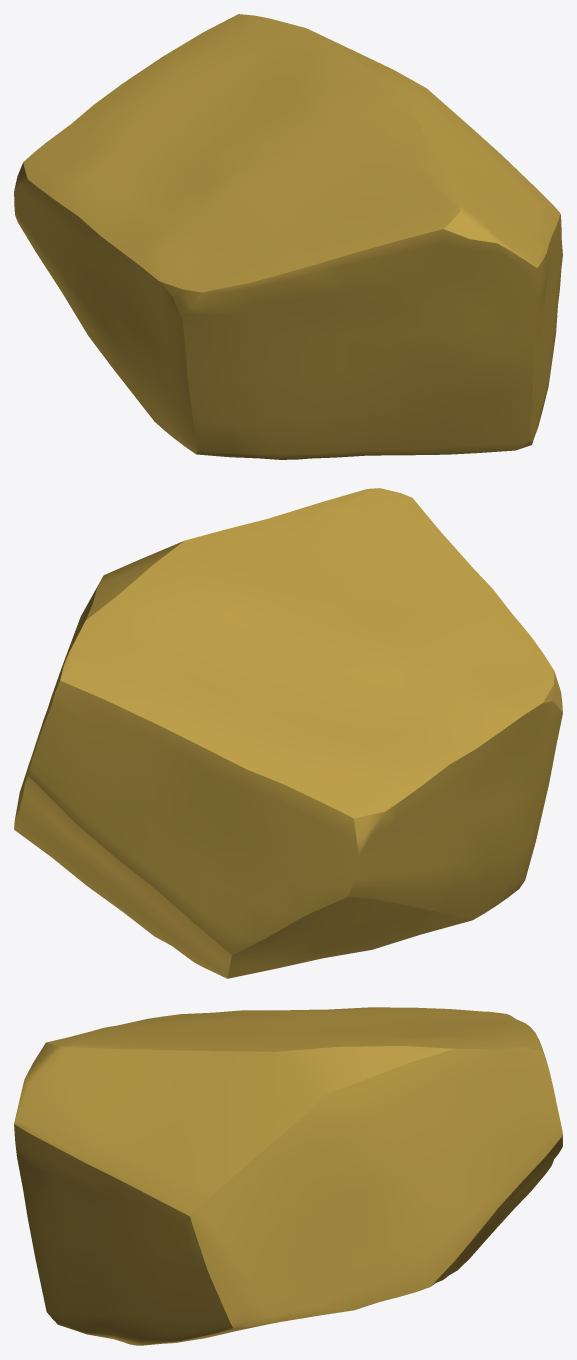
The model's file is RockObsticle.fbx.
3 renders of one model, top to bottom at view 1: azimuth 30°, elevation 25°; view 2: azimuth 150°, elevation 25°; view 3: azimuth 270°, elevation 25°, orthographic. The views are drawn at different scales.
Visible parts, largest first — view 1: Rock; view 2: Rock; view 3: Rock.
Part boxes in pixels (bbox=[...]): Rock: bbox=[14, 14, 562, 459]; Rock: bbox=[14, 488, 562, 978]; Rock: bbox=[14, 1007, 562, 1345].
Size of the model in its own units: 63.58 by 42.38 by 75.95.
